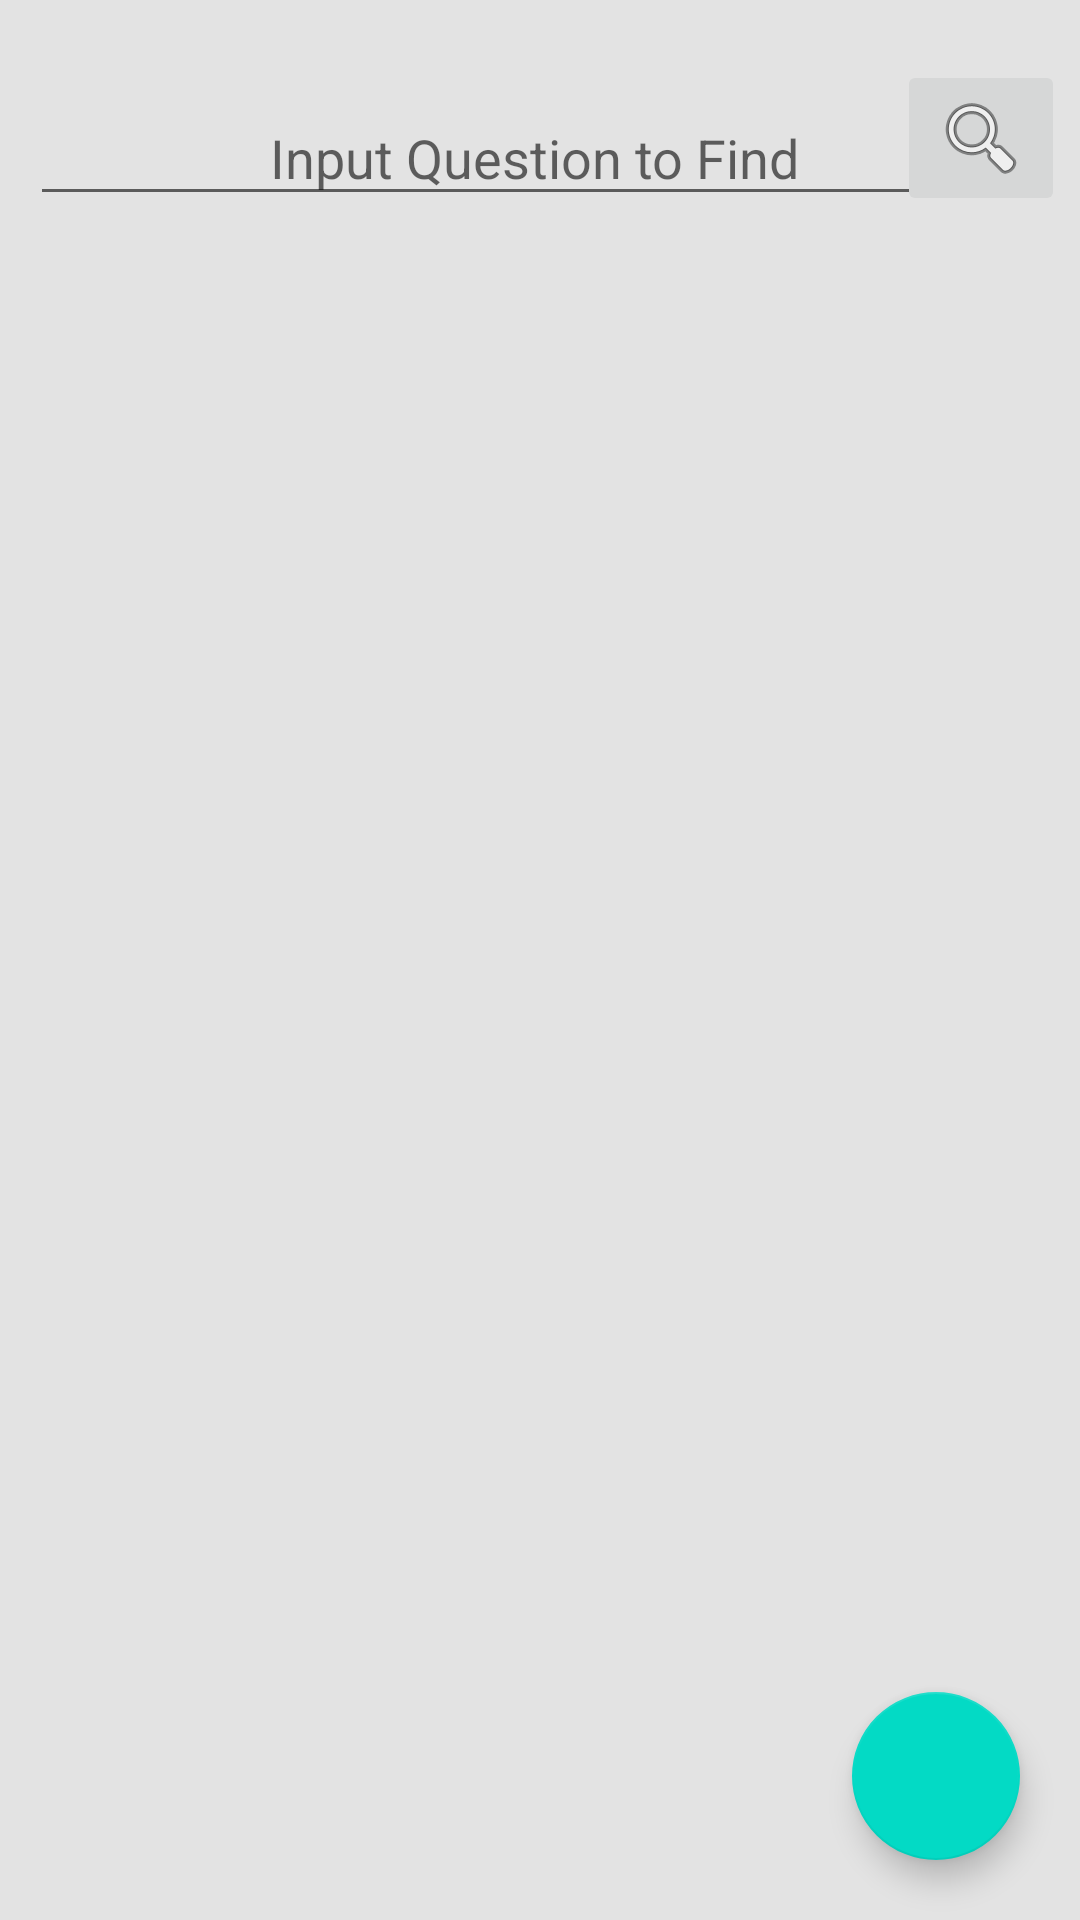

Where icons sit on this 1080*1920 app screen, as bbox=(x1, y1, x2, y2):
search: bbox=(897, 78, 1053, 198)
